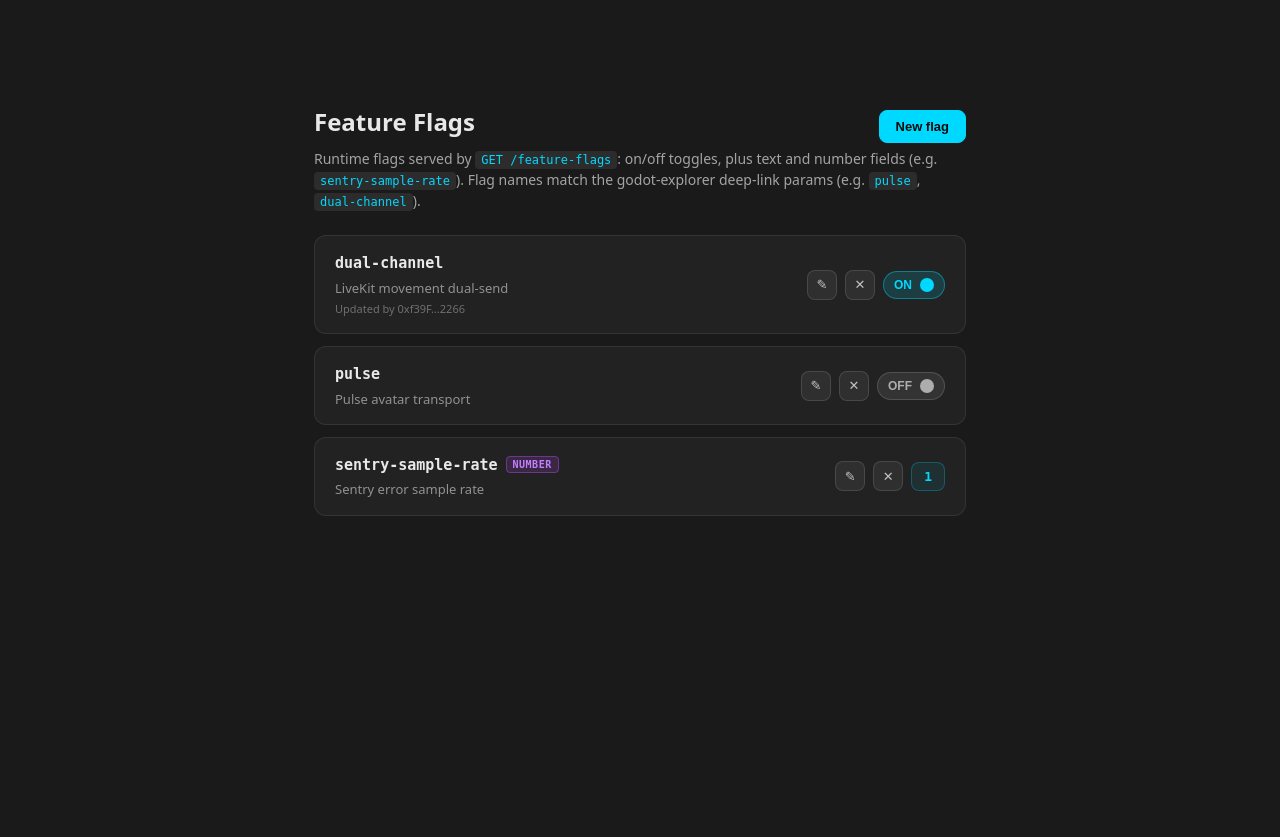
Test: FeatureFlagsPage › creates a number flag from the form, sending value instead of enabled
Click the button "New flag" at (922, 126), box [878,110,966,142]
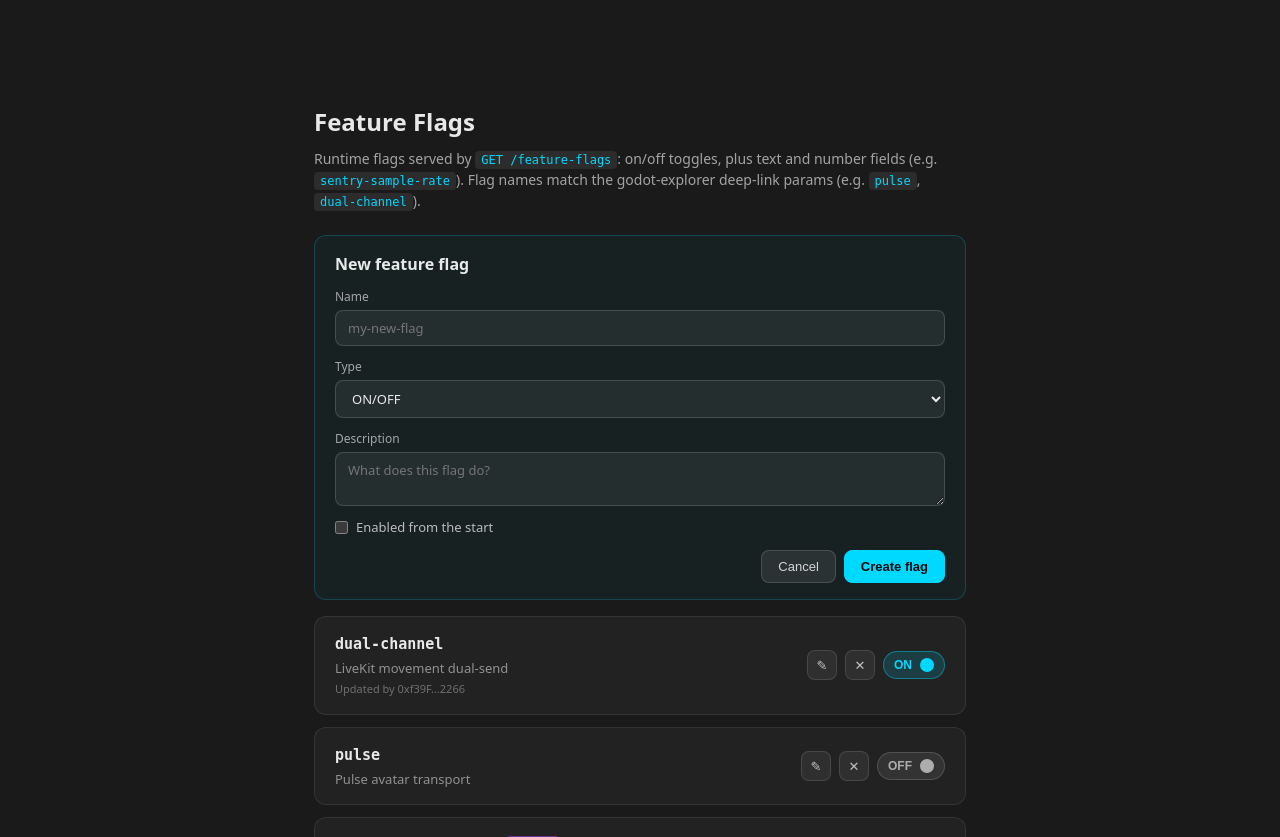
Type "spawn-radius" into the field named "Flag name" at (640, 328), box [335,310,945,346]
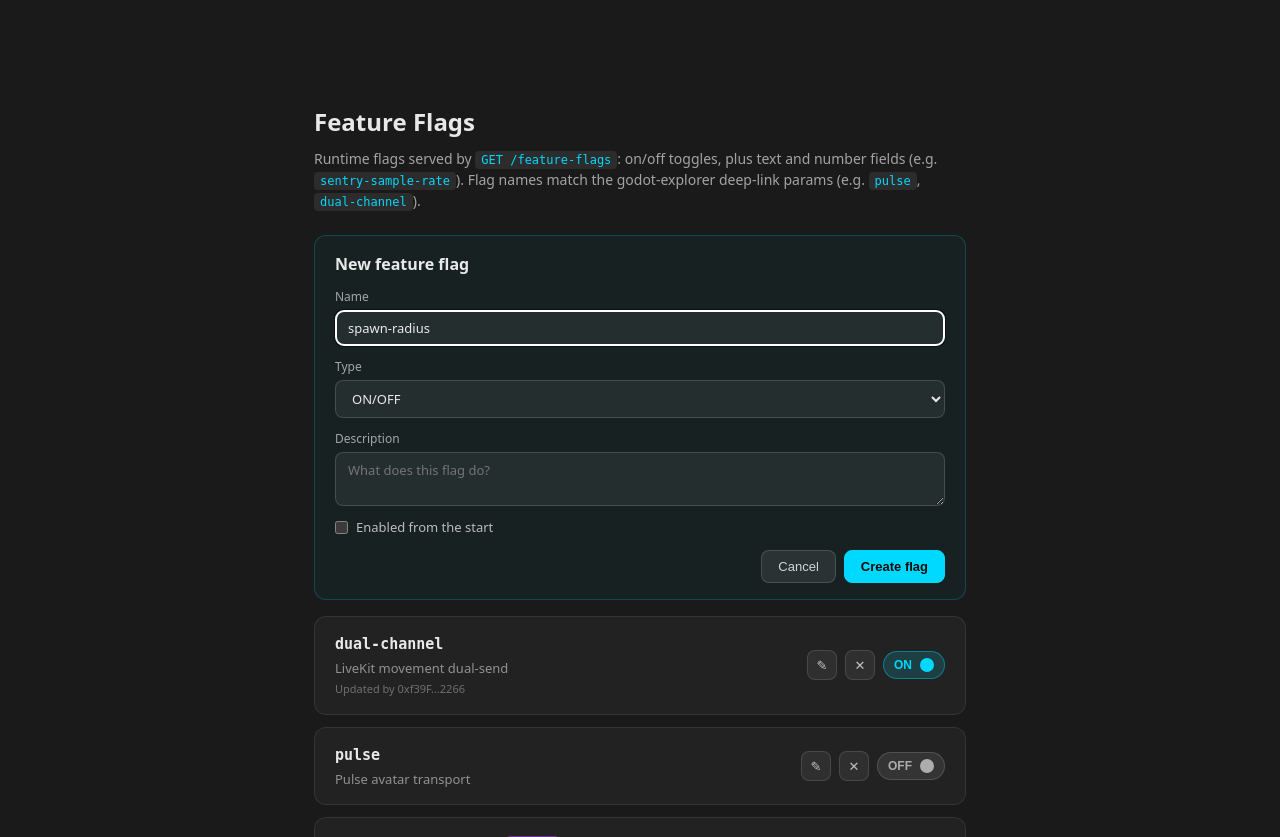
Select "Number" in the dropdown named "Flag type" at (640, 399), box [335,380,945,418]
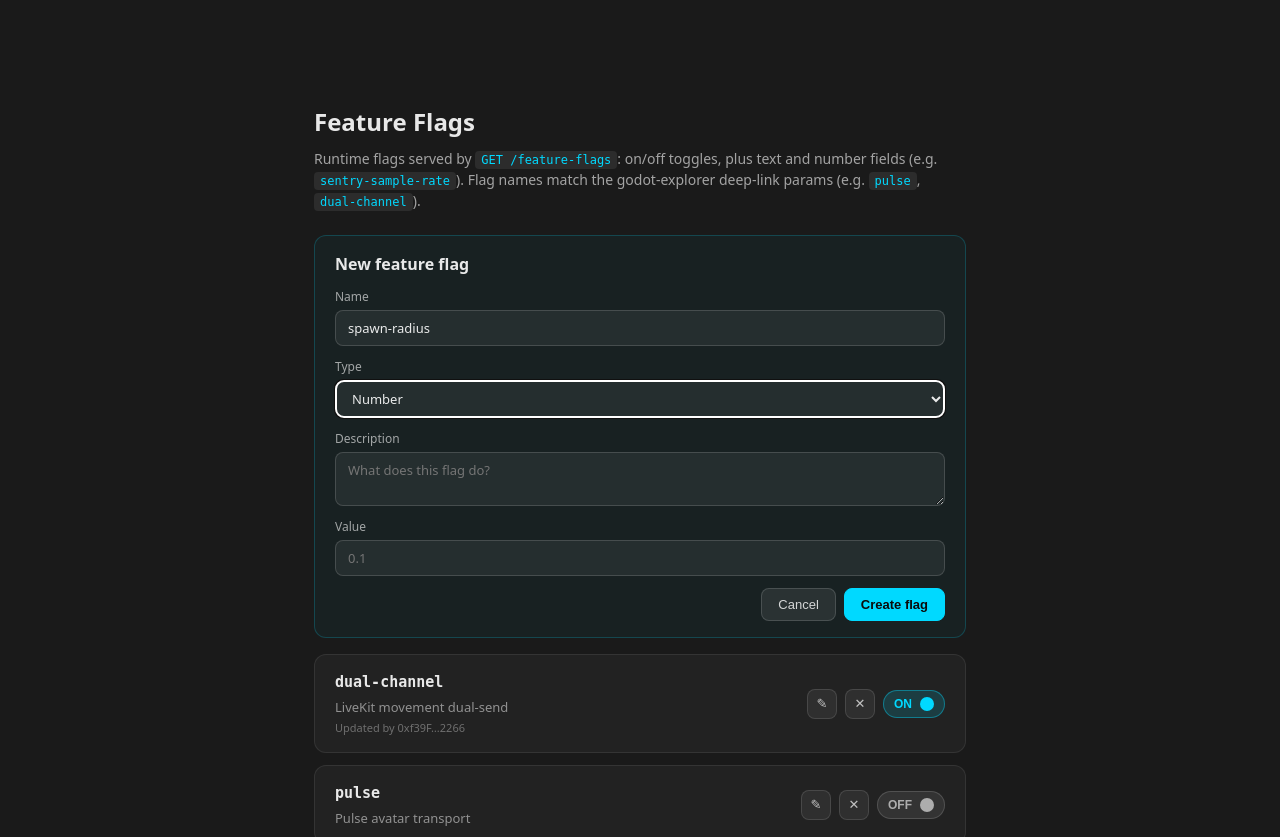
Expected: the text "Enabled from the start" is gone
Type "2.5" into the field named "Flag value" at (640, 558), box [335,540,945,576]
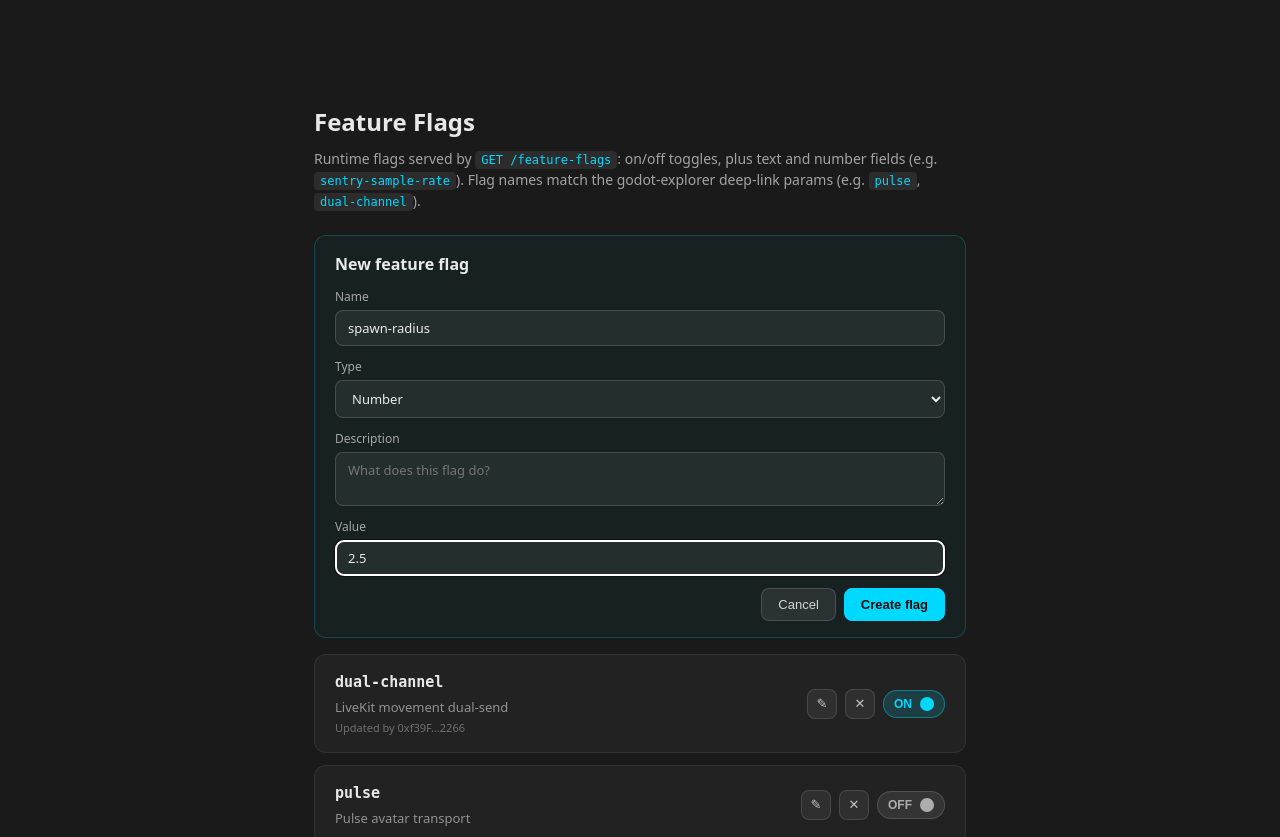
Click the button "Create flag" at (894, 604), box [844,588,945,621]
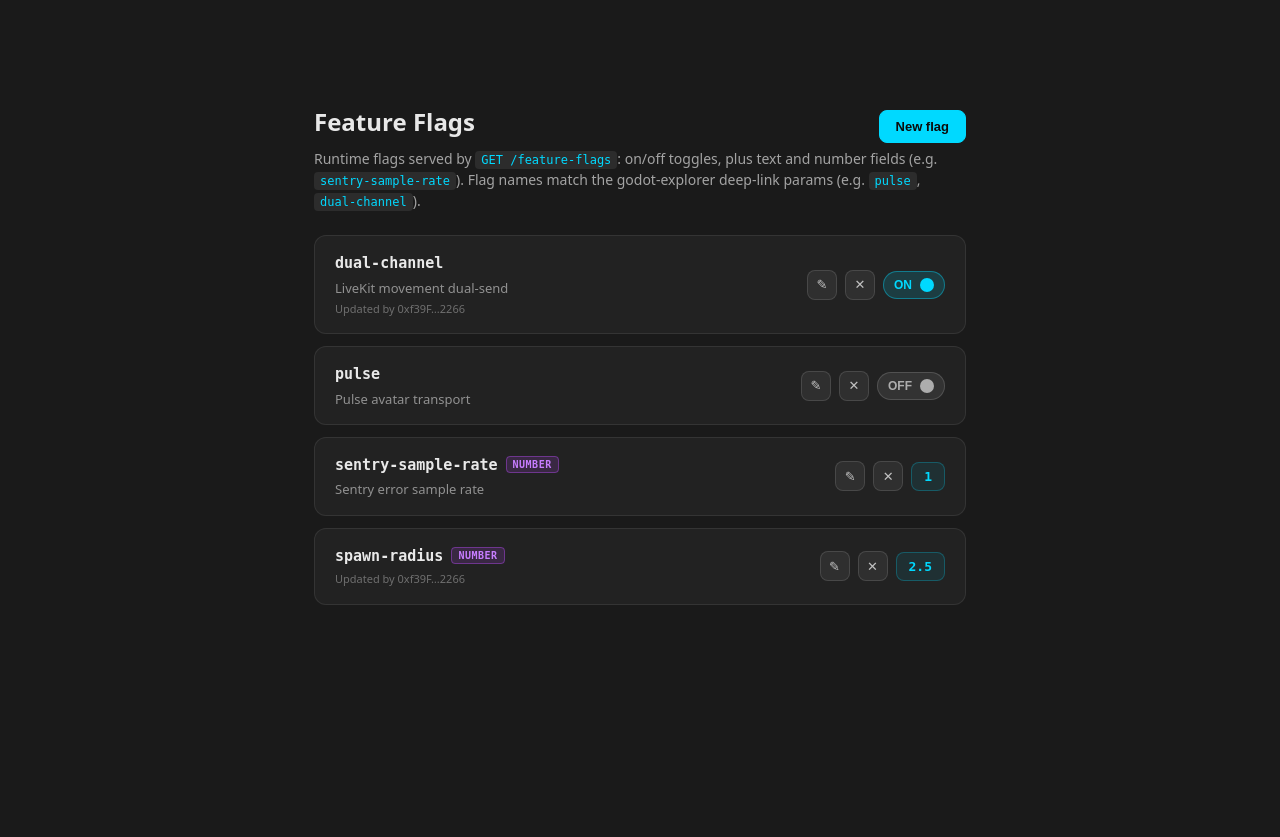
Expected: the button named "Edit spawn-radius value" is shown, [896,552,945,581]
